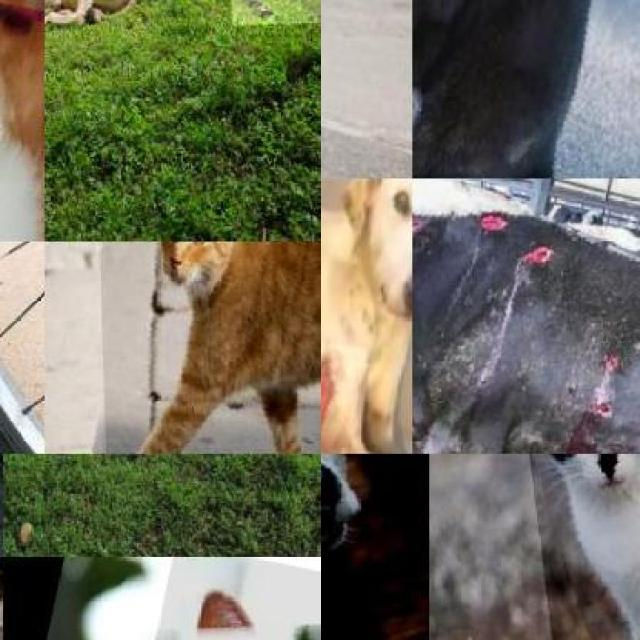cat: (95, 241, 320, 454), (412, 0, 639, 178), (506, 454, 640, 640), (62, 557, 320, 640)
cow: (412, 178, 640, 454), (320, 454, 429, 640)
dog: (320, 178, 412, 454)
injured: (320, 334, 365, 454), (464, 227, 514, 298), (559, 374, 623, 426), (412, 200, 452, 269), (573, 317, 607, 355)
